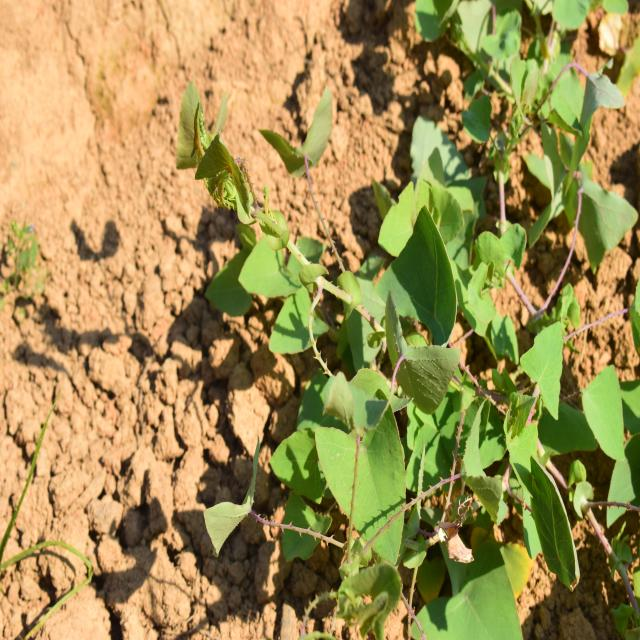Asiatic_Smartweed: (280, 307, 490, 545), (168, 72, 340, 342), (493, 270, 592, 588)
